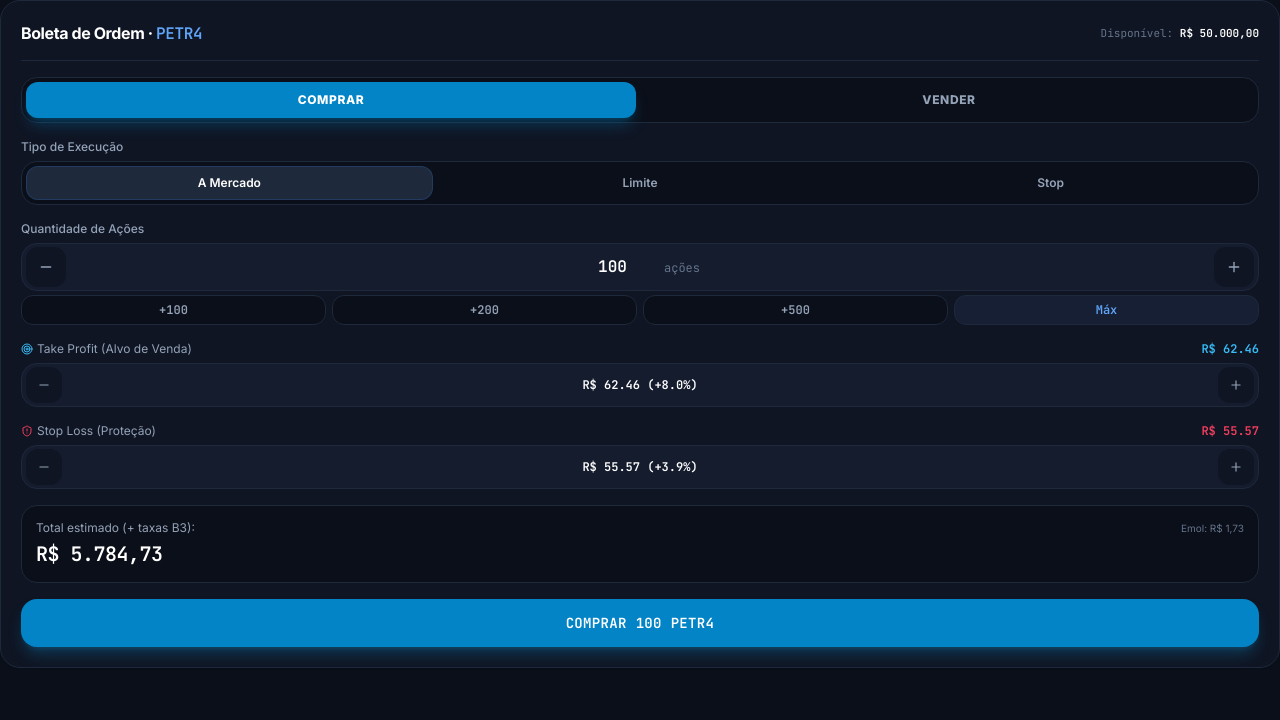
Test: OrderPad Integration Tests › should execute BUY order successfully and show confirmation
Step 1. Click the button "COMPRAR 100 PETR4" → (640, 623), box [21,599,1259,647]
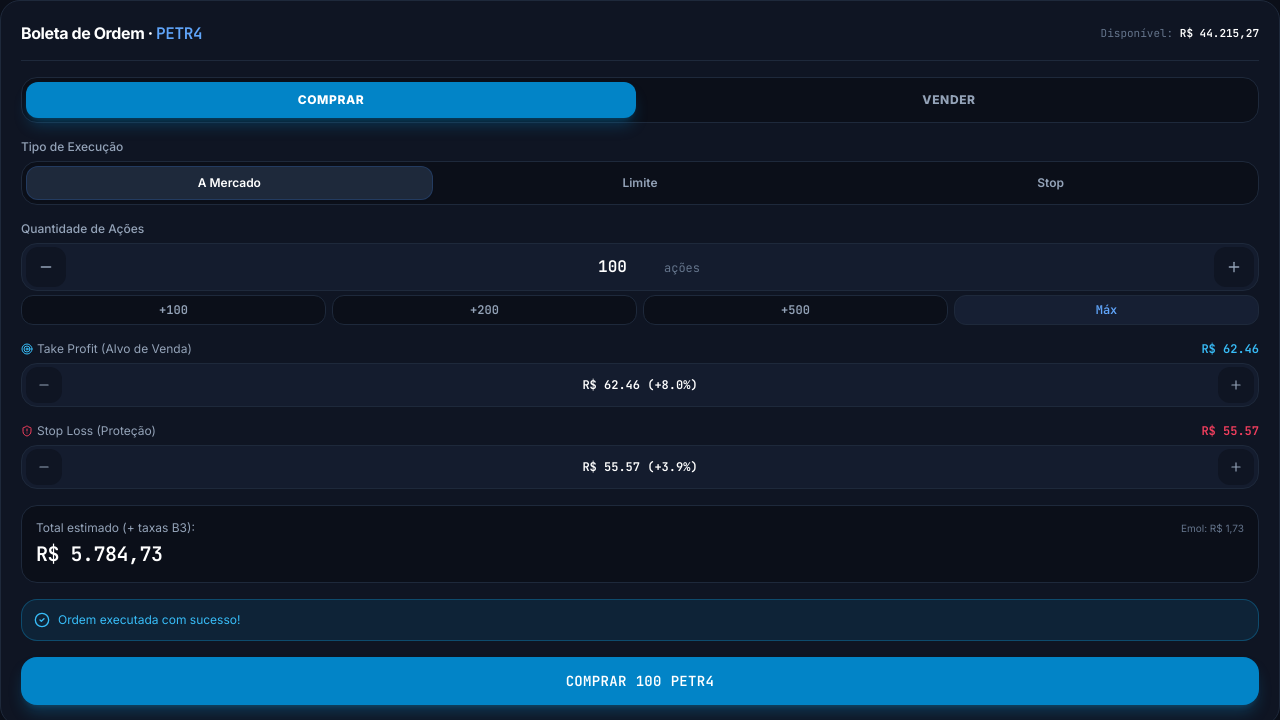
Expected: the text "Ordem executada com sucesso!" is shown, [58,612,240,628]
